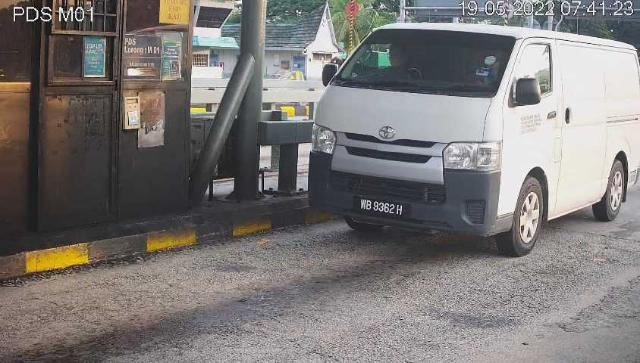License_Plate: (360, 198, 410, 221)
van: (309, 24, 640, 258)
